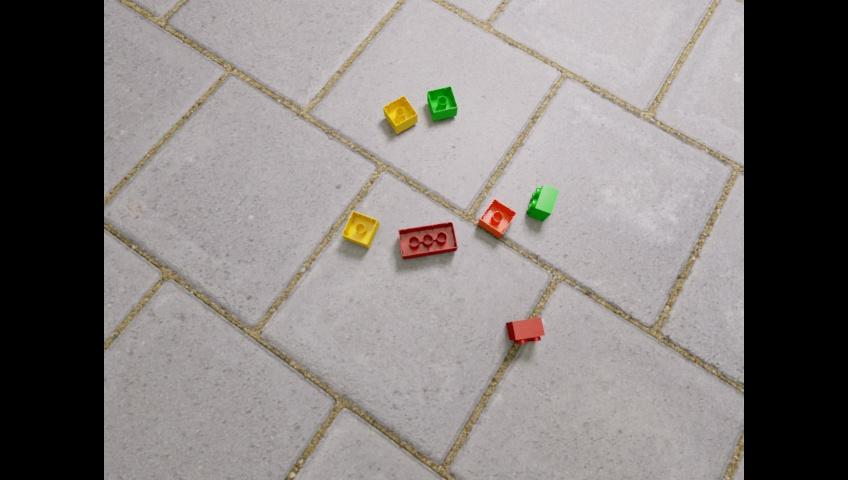2x2_green: (526, 183, 558, 221), (427, 85, 457, 120)
2x2_orange: (477, 197, 515, 237)
2x2_red: (506, 316, 544, 343)
2x2_yellow: (341, 210, 378, 247), (382, 94, 416, 133)
4x2_red: (398, 220, 457, 259)
